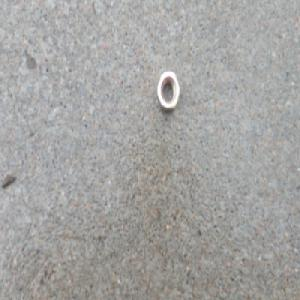Nut: (156, 70, 180, 111)
